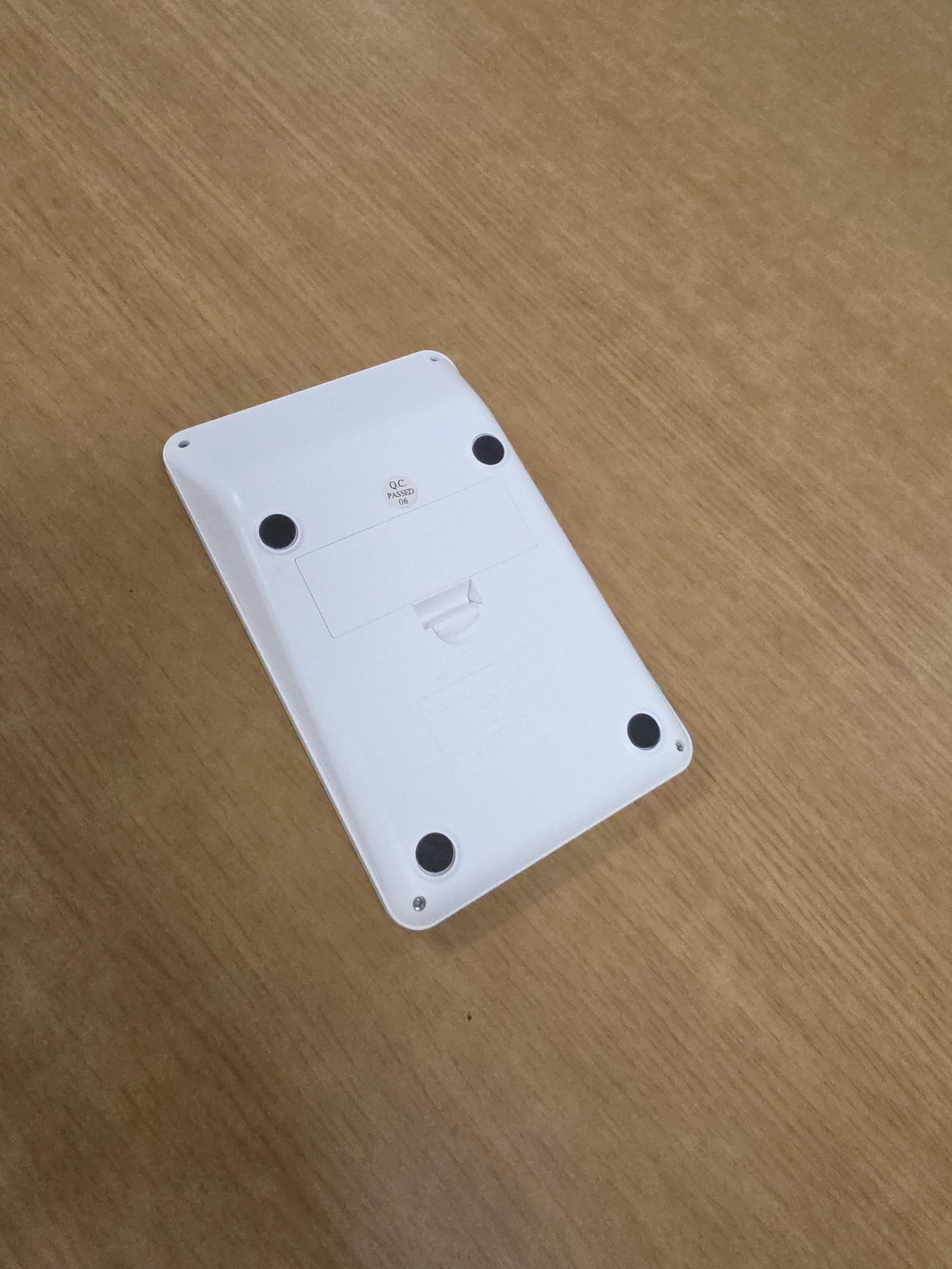calculator: (161, 350, 696, 931)
